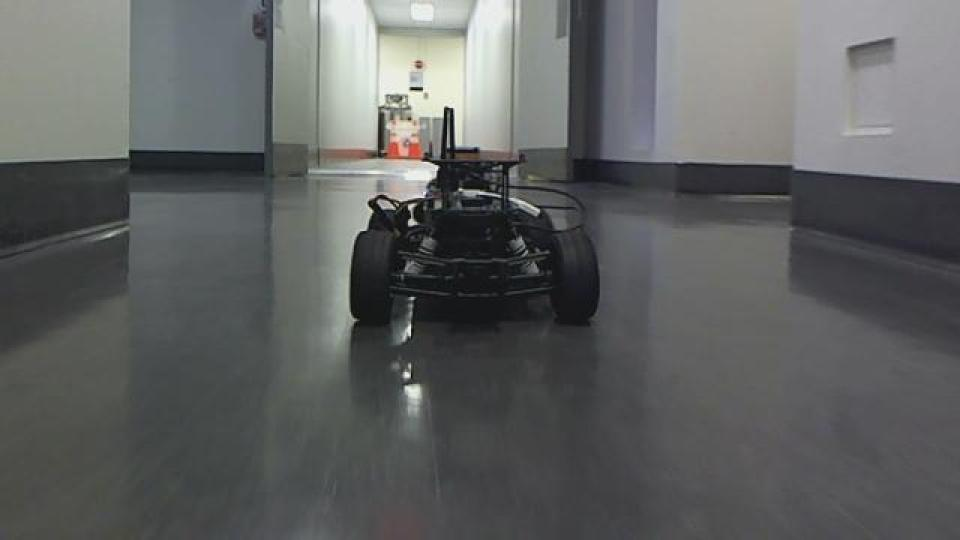car: (345, 105, 603, 329)
